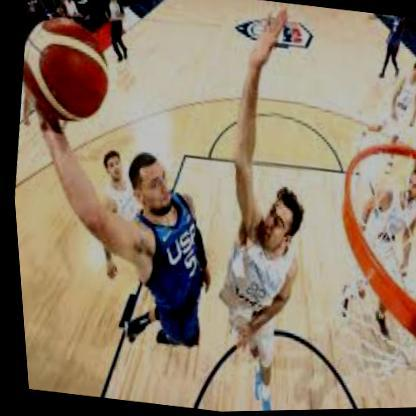basketball: (11, 11, 118, 130)
rim: (313, 134, 416, 352)
